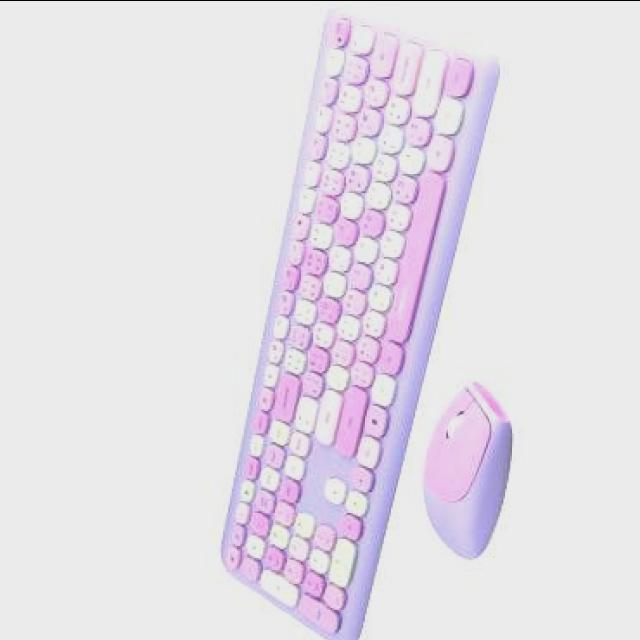keyboard: (216, 0, 500, 640)
